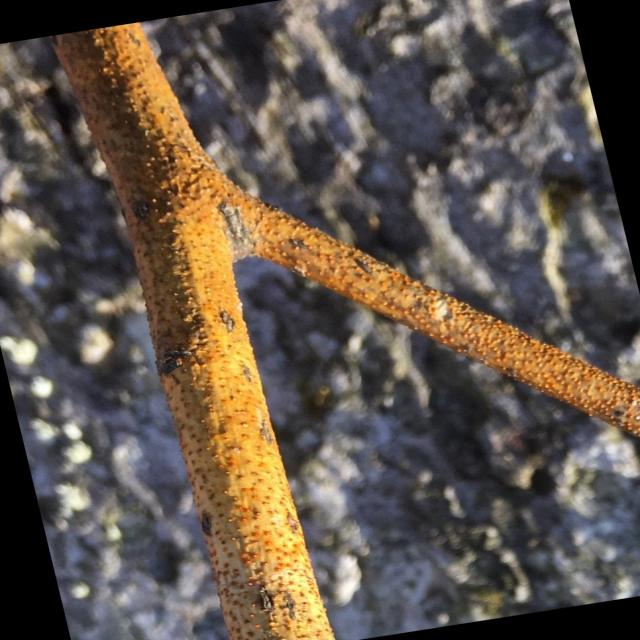Golden_canker: (46, 20, 637, 638)
